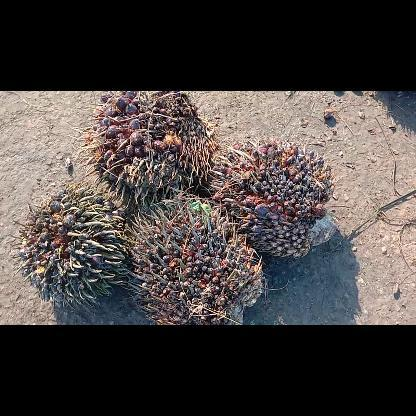TBS abnormal: (118, 192, 268, 324), (10, 178, 134, 310), (207, 138, 343, 258)
TBS masak: (76, 91, 224, 200)
